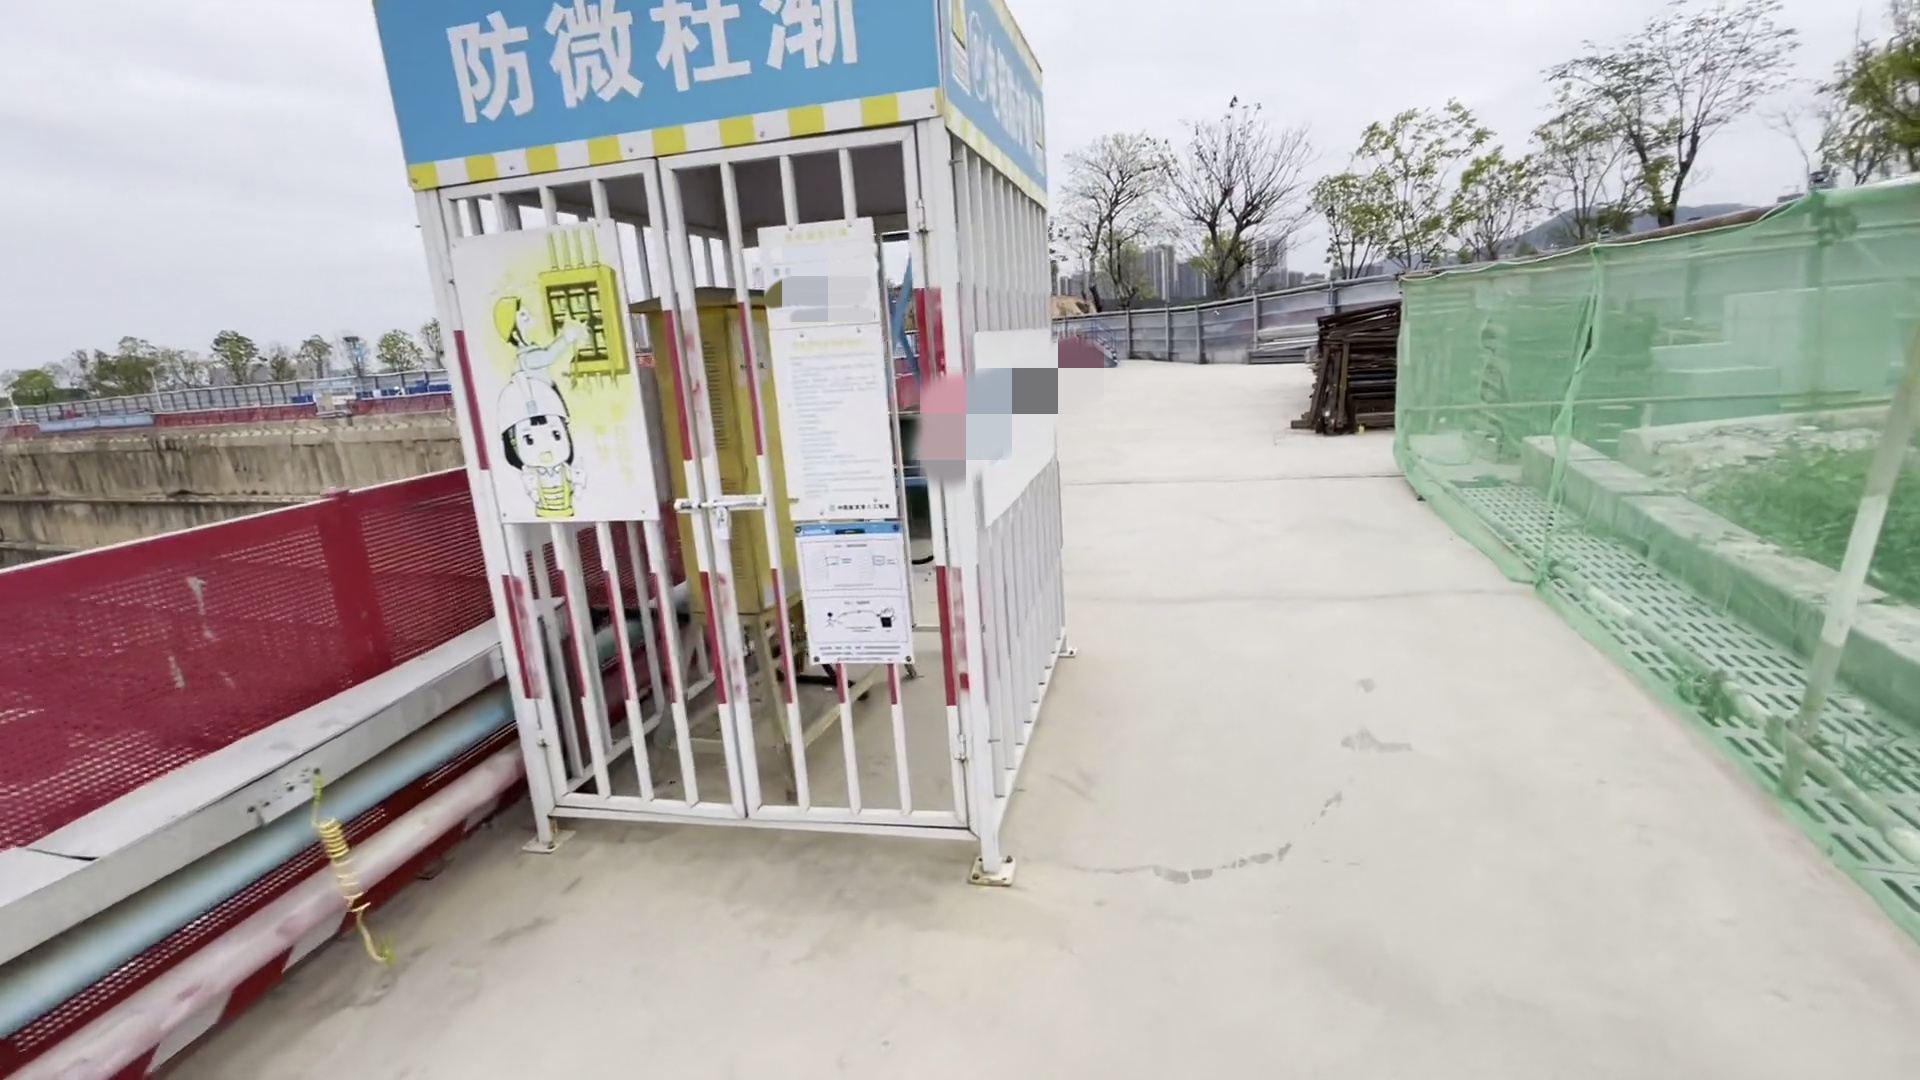fence: (1, 448, 497, 843), (152, 389, 456, 440)
slogan: (439, 1, 901, 120)
